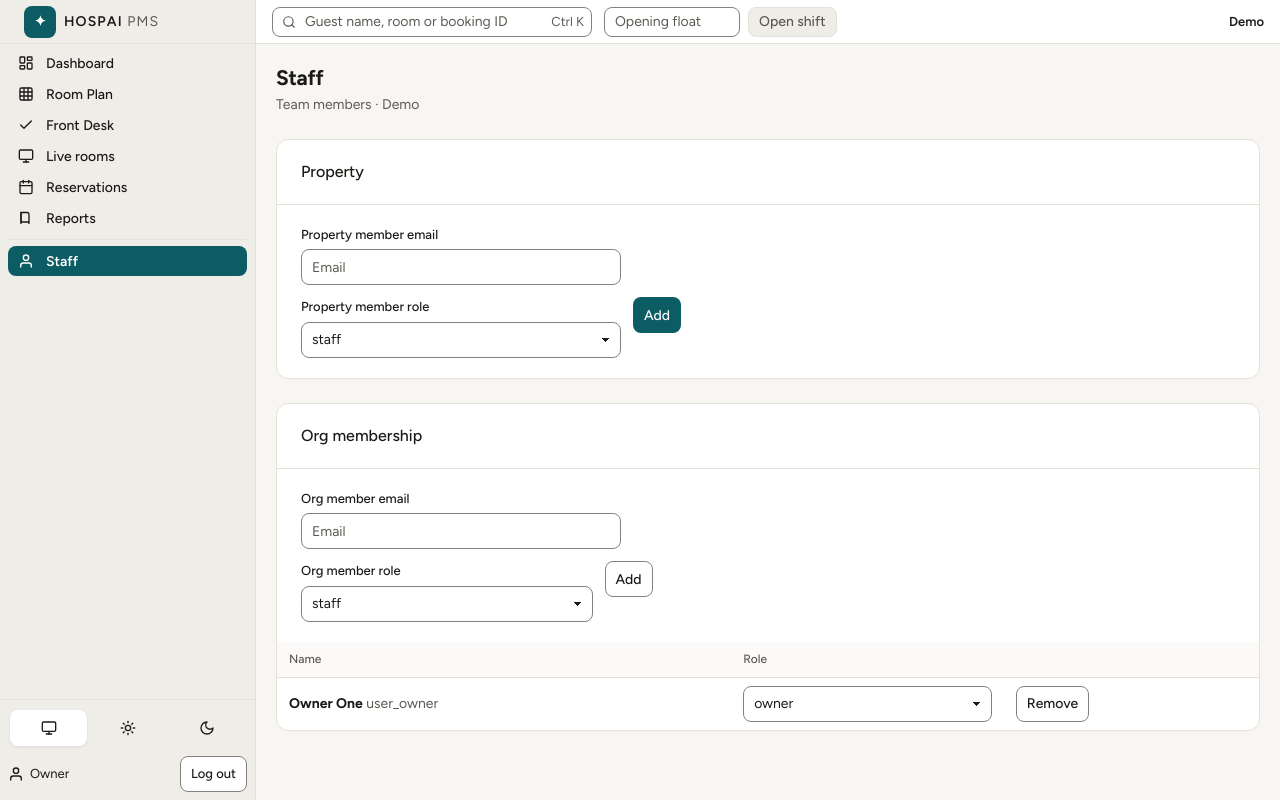
Test case: StaffScreen › #11 self org-DELETE → harsh confirm → no-access shell
Expected: the row with test id "org-member-user_owner" is shown, [277, 678, 1259, 730]
Click the button "Remove".
click(1052, 704)  # box [1016, 686, 1089, 722]
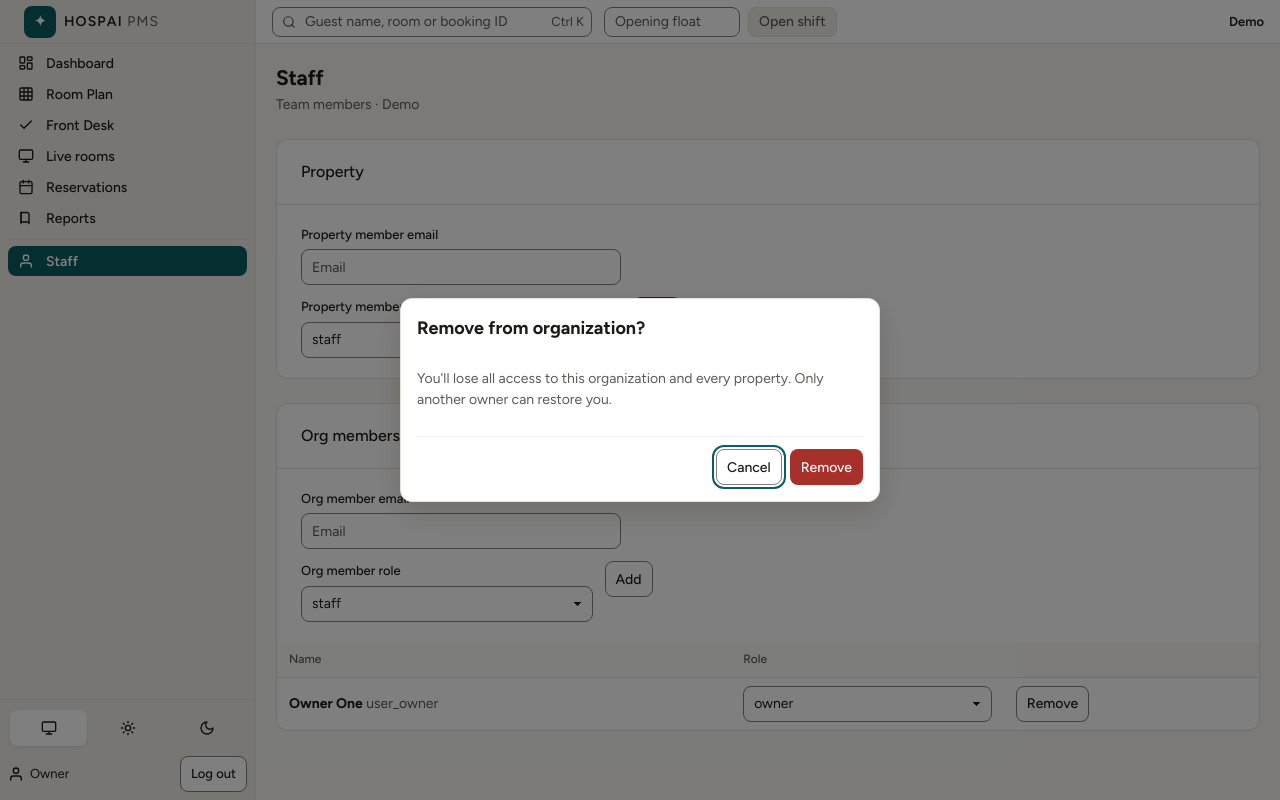
Result: the text "lose all access to this organization" is shown at [417, 370, 824, 408]
Click the button with test id "confirm-dialog-confirm".
click(826, 467)  # box [790, 449, 863, 485]
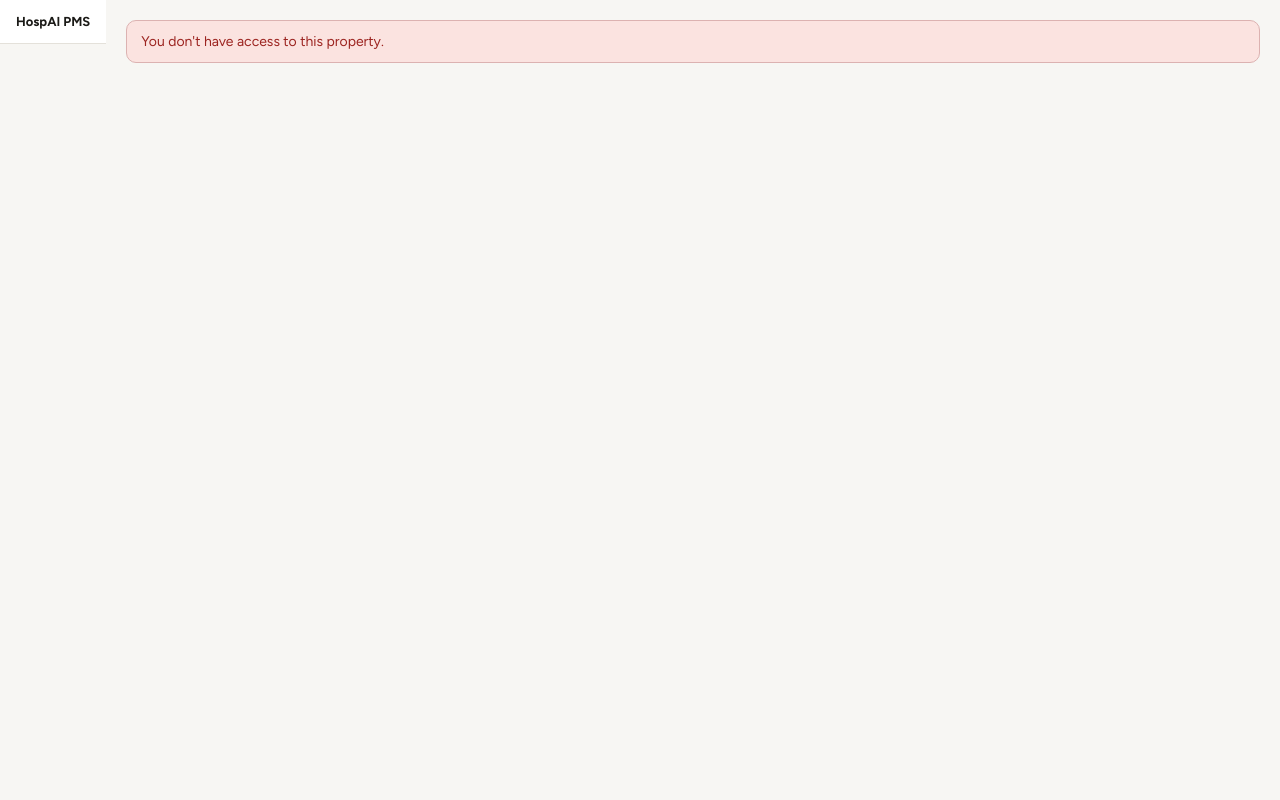
Result: the message "You don't have access to this property." is shown at [126, 20, 1260, 63]
Result: the element with test id "staff-screen" is gone
